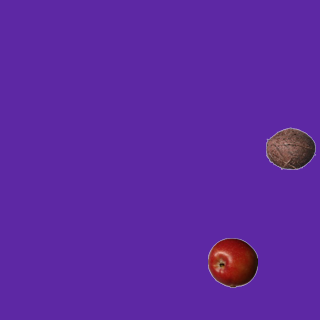Apple Braeburn: (207, 237, 257, 287)
Cocos: (265, 123, 315, 173)
